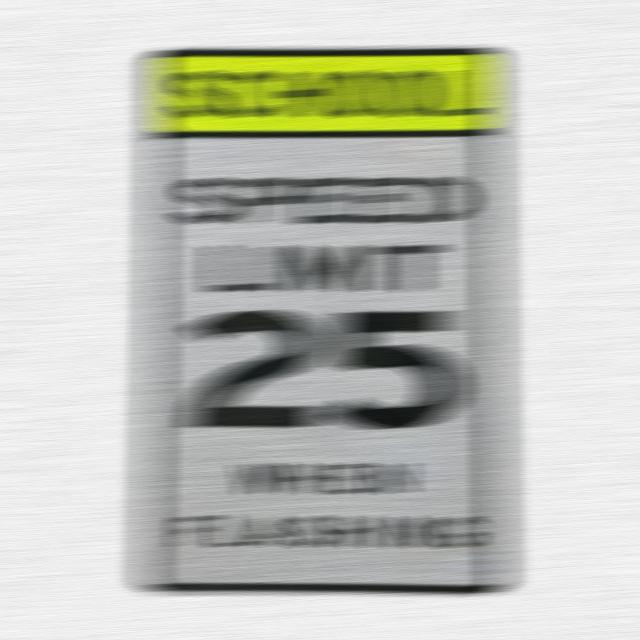speedLimit25: (137, 130, 510, 595)
